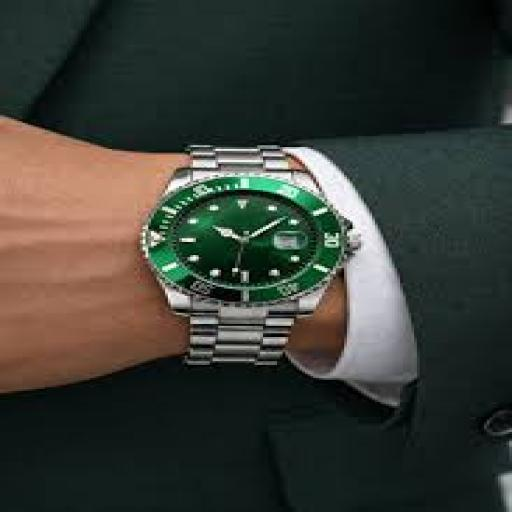KolSaati: (104, 89, 388, 379)
